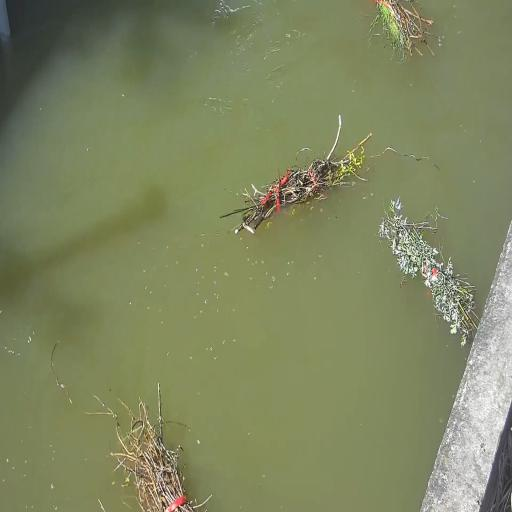twig: (219, 116, 371, 233), (378, 197, 478, 346), (111, 384, 204, 512), (367, 0, 442, 63)
